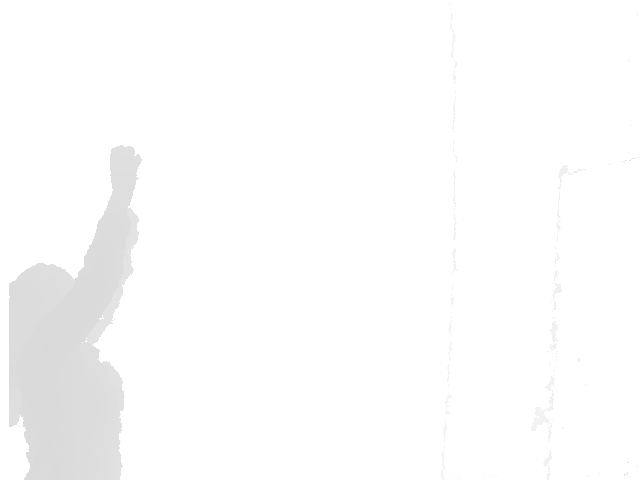hand: (107, 143, 143, 205)
head: (8, 261, 103, 326)
person: (7, 143, 143, 480)
